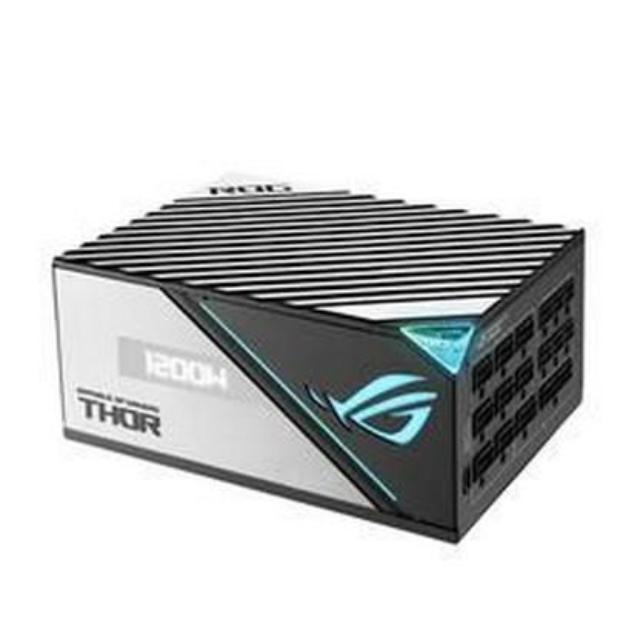PSU: (51, 154, 594, 548)
